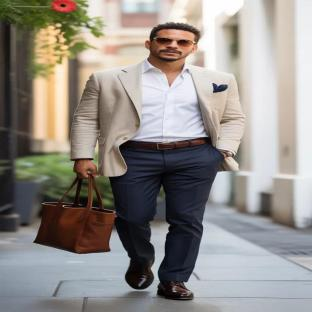Human: (70, 22, 244, 300)
